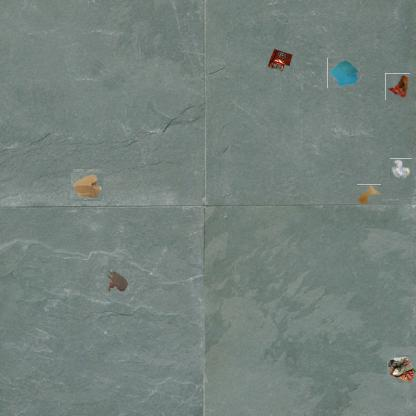dirty: (327, 58, 360, 88), (386, 354, 416, 384), (72, 170, 102, 200), (266, 45, 294, 73), (385, 74, 410, 99), (390, 159, 413, 181)
liquid: (106, 268, 130, 292), (357, 184, 381, 205)
